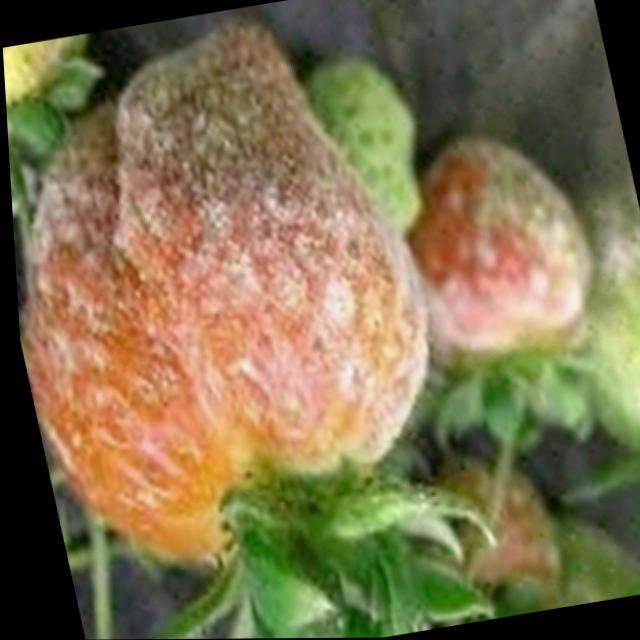Powdery Mildew Fruit: (15, 8, 489, 575), (401, 133, 596, 382), (440, 462, 559, 615), (2, 32, 100, 170), (569, 188, 640, 342)
